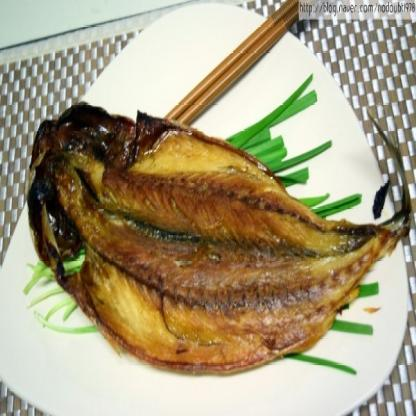Peixe: (17, 98, 416, 373)
